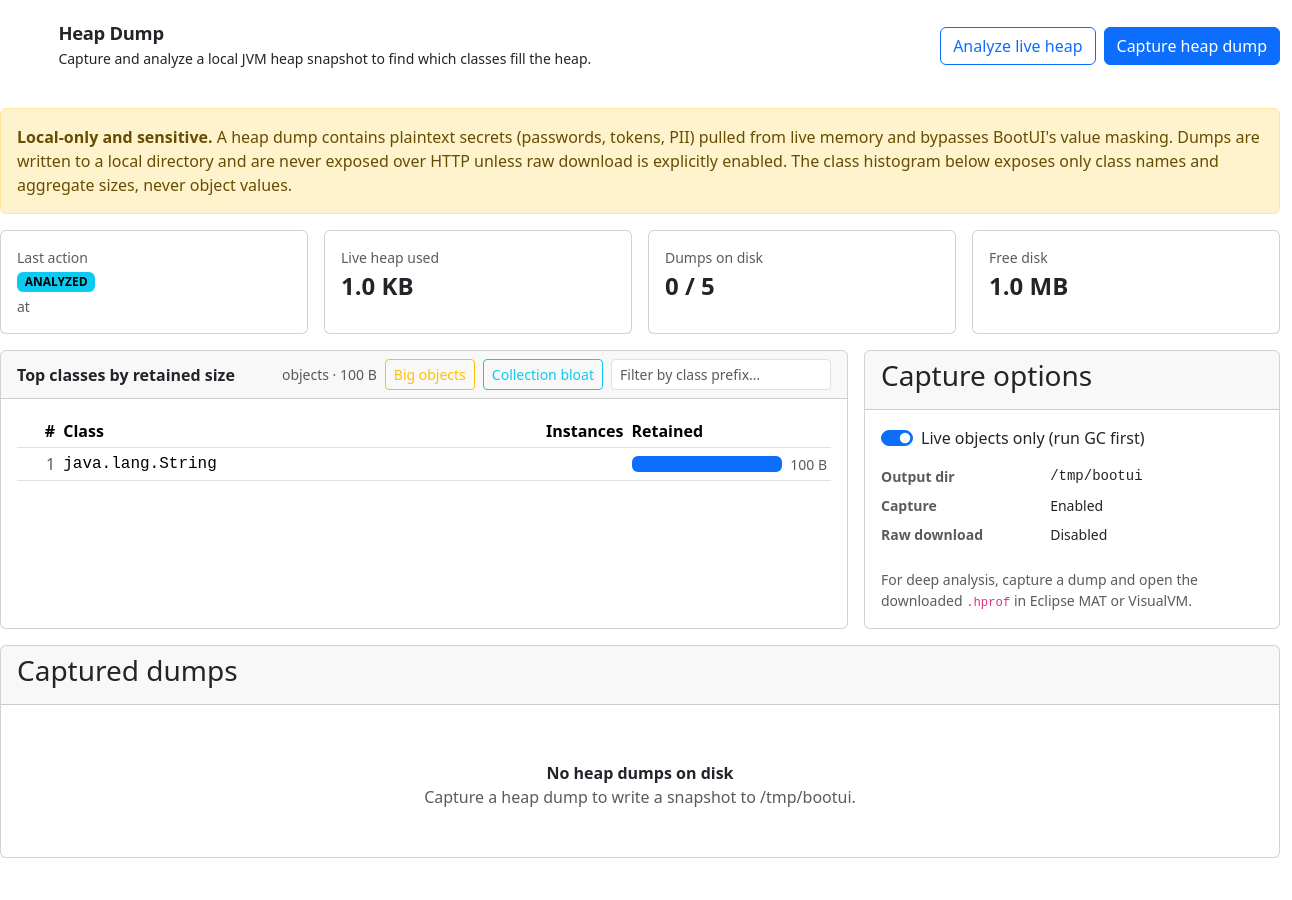
it: HeapDump › keeps the class prefix filter editable when it matches no histogram rows
In the field with placeholder "Filter by class prefix…": (721, 375) 611,359 -> 831,390, type "com.missing"
Wait 250 ms
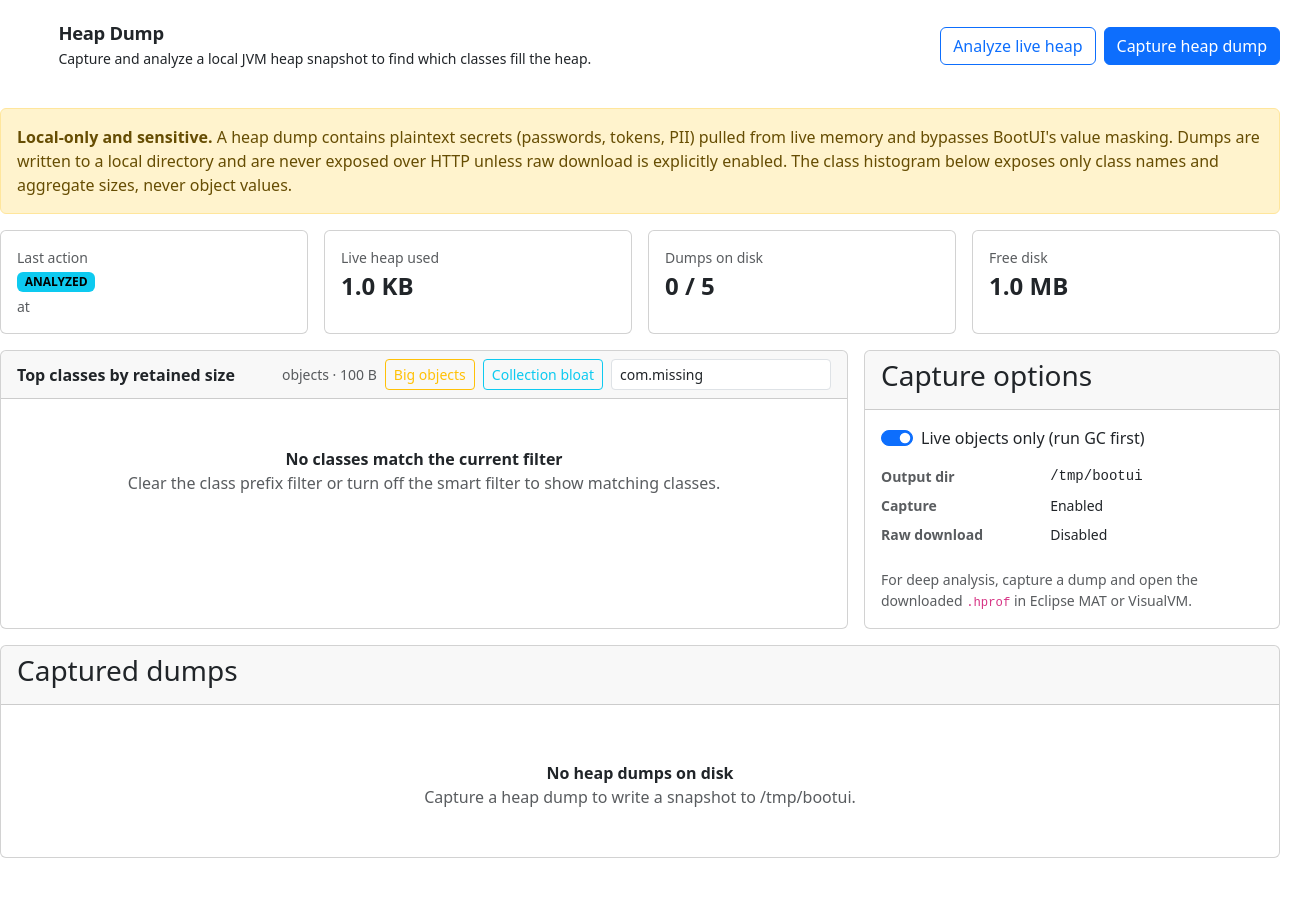
Check: the text "No classes match the current filter" is shown, box 285,448 -> 563,470
Clear the field named "Filter heap histogram classes": (721, 375) 611,359 -> 831,390
Wait 250 ms
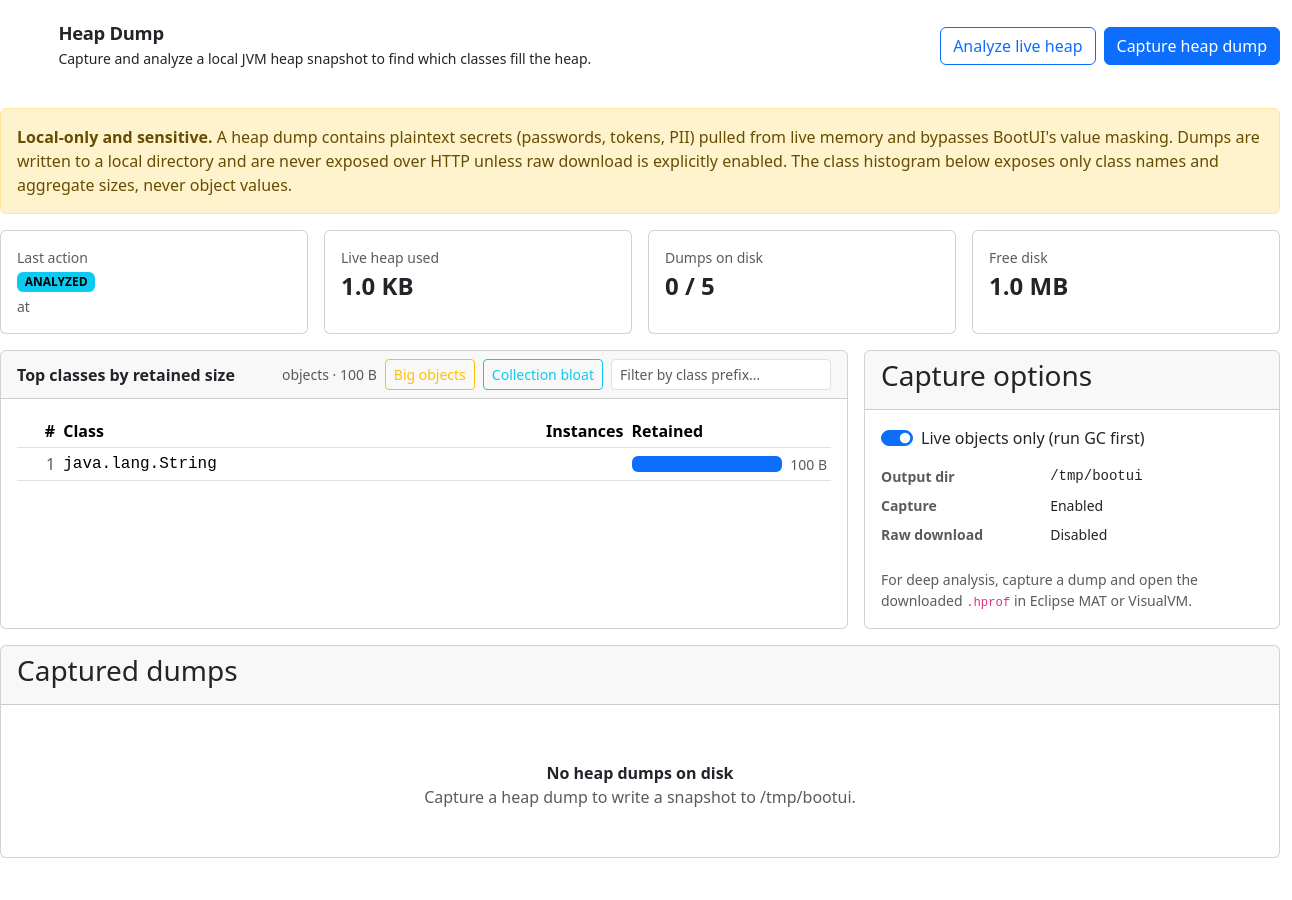
Check: the text "java.lang.String" is shown, box 59,448 -> 431,481
